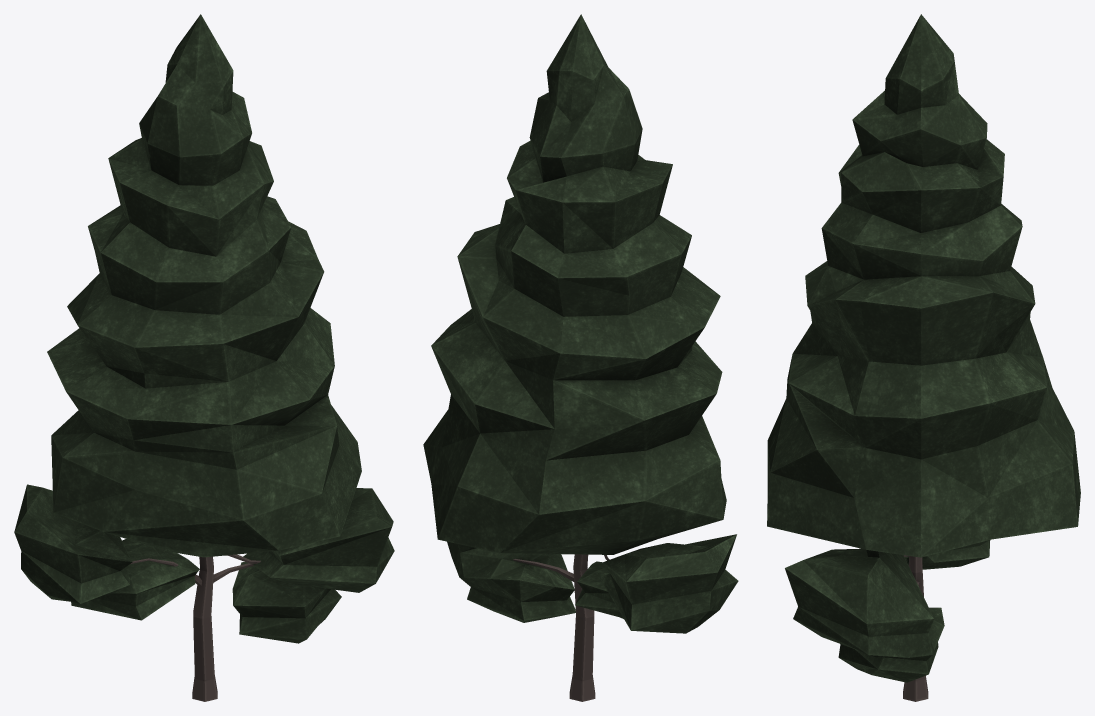
File: SpruceTree.gltf
3 renders of one model, left to right at view 1: azimuth 30°, elevation 25°; view 2: azimuth 150°, elevation 25°; view 3: azimuth 270°, elevation 25°, orthographic.
Visible parts, largest first — view 1: node-0; view 2: node-0; view 3: node-0.
Boxes of the visible parts, <box> form: node-0: <box>14,14,394,701</box>; node-0: <box>423,14,738,701</box>; node-0: <box>767,14,1080,701</box>.
Size of the model in its own units: 8.27 by 16.34 by 6.83.
1 material, 1 textured.
